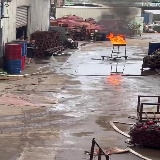fire: (105, 32, 127, 44)
